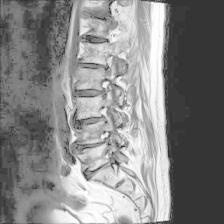disc: (76, 3, 114, 26), (70, 113, 112, 132), (76, 30, 114, 48), (73, 57, 112, 74)
hdisc: (69, 84, 108, 104), (70, 137, 112, 155)
